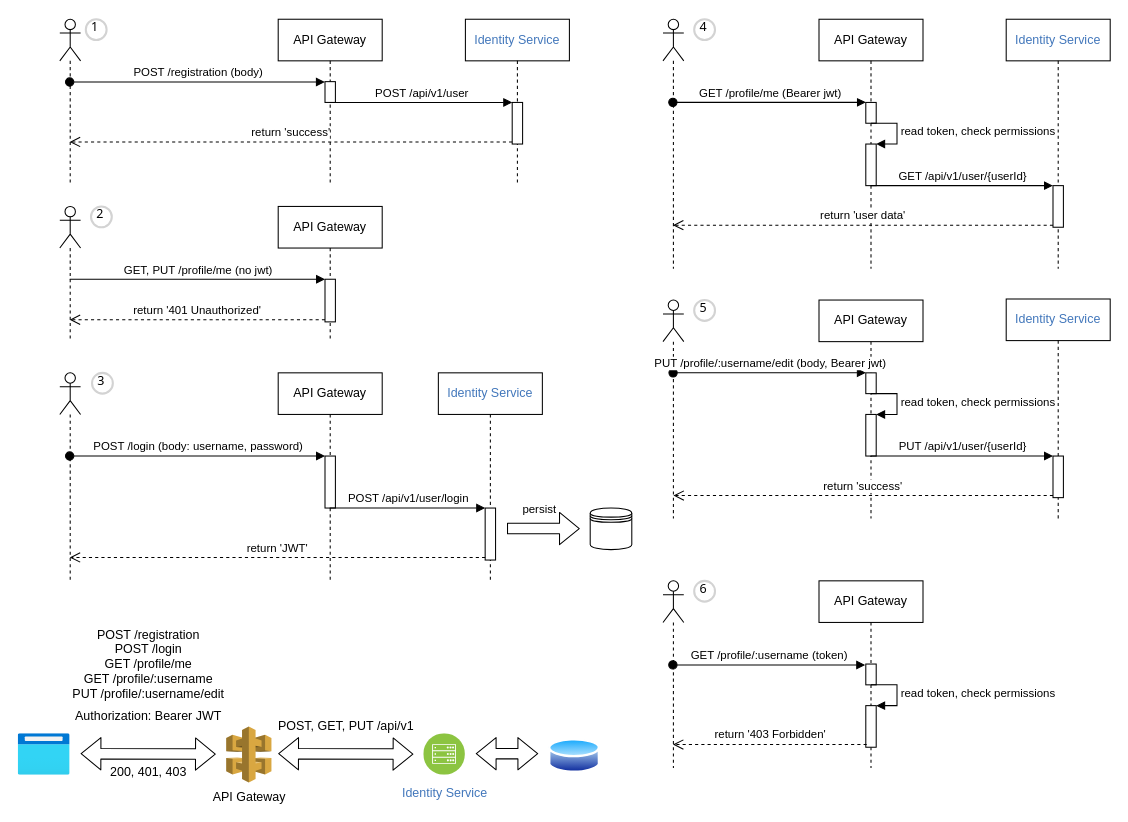
The diagram is 1128 pixels wide and 822 high, and some of its shapes have lost their labels. Here are the shapes that lost their labels. From the top down, the centre of each, then its label:
the point at 610,528: DB
the point at 574,755: User DB
